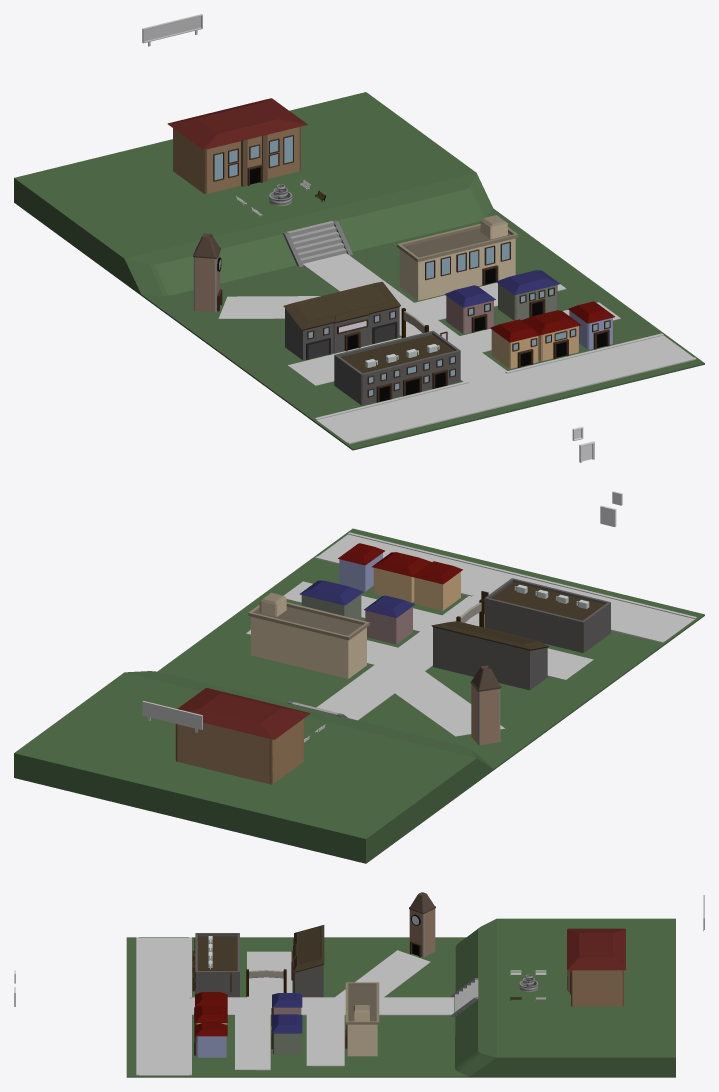
The model's file is FullMap.fbx.
3 renders of one model, top to bottom at view 1: azimuth 30°, elevation 25°; view 2: azimuth 150°, elevation 25°; view 3: azimuth 270°, elevation 25°, orthographic. The views are drawn at different scales.
Parts seen in each view (by area): view 1: Cube, Cube.015, Cube.003, Cube.002, Cube.009, Cube.005, Cube.006, Cube.049, Cube.059, Cube.004, Cube.008, Cube.007 (+3 smaller); view 2: Cube, Cube.015, Cube.003, Cube.002, Cube.009, Cube.005, Cube.059, Cube.008, Cube.004, Cube.006, Cube.013, Cube.007 (+2 smaller); view 3: Cube, Cube.015, Cube.003, Cube.009, Cube.002, Cube.005, Cube.059, Cube.006, Cube.007, Cube.004, Cube.049, Cube.014 (+2 smaller).
Part boxes in pixels (bbox=[...]): Cube: bbox=[14, 92, 704, 450]; Cube.015: bbox=[218, 253, 696, 444]; Cube.003: bbox=[167, 98, 307, 193]; Cube.002: bbox=[397, 215, 518, 300]; Cube.009: bbox=[334, 330, 460, 405]; Cube.005: bbox=[283, 281, 400, 360]; Cube.006: bbox=[496, 270, 559, 320]; Cube.049: bbox=[282, 220, 352, 267]; Cube.059: bbox=[193, 233, 222, 312]; Cube.004: bbox=[444, 285, 495, 333]; Cube.008: bbox=[490, 319, 540, 368]; Cube.007: bbox=[568, 301, 614, 349]; Cube: bbox=[14, 528, 704, 863]; Cube.015: bbox=[246, 532, 696, 736]; Cube.003: bbox=[175, 688, 310, 784]; Cube.002: bbox=[248, 592, 369, 678]; Cube.009: bbox=[484, 578, 610, 652]; Cube.005: bbox=[431, 621, 548, 690]; Cube.059: bbox=[470, 665, 501, 745]; Cube.008: bbox=[413, 561, 462, 610]; Cube.004: bbox=[364, 595, 414, 644]; Cube.006: bbox=[299, 580, 363, 619]; Cube.013: bbox=[372, 552, 431, 602]; Cube.007: bbox=[338, 543, 384, 591]; Cube: bbox=[126, 918, 675, 1077]; Cube.015: bbox=[136, 937, 454, 1075]; Cube.003: bbox=[567, 928, 625, 1006]; Cube.009: bbox=[192, 933, 239, 997]; Cube.002: bbox=[345, 982, 379, 1056]; Cube.005: bbox=[291, 925, 324, 997]; Cube.059: bbox=[409, 892, 435, 957]; Cube.006: bbox=[271, 1014, 302, 1054]; Cube.007: bbox=[194, 1023, 227, 1057]; Cube.004: bbox=[271, 993, 302, 1026]; Cube.049: bbox=[451, 978, 478, 1016]; Cube.014: bbox=[194, 1005, 227, 1036].
Bounding box in the file's own units: 25181 × 8631 × 52803.
